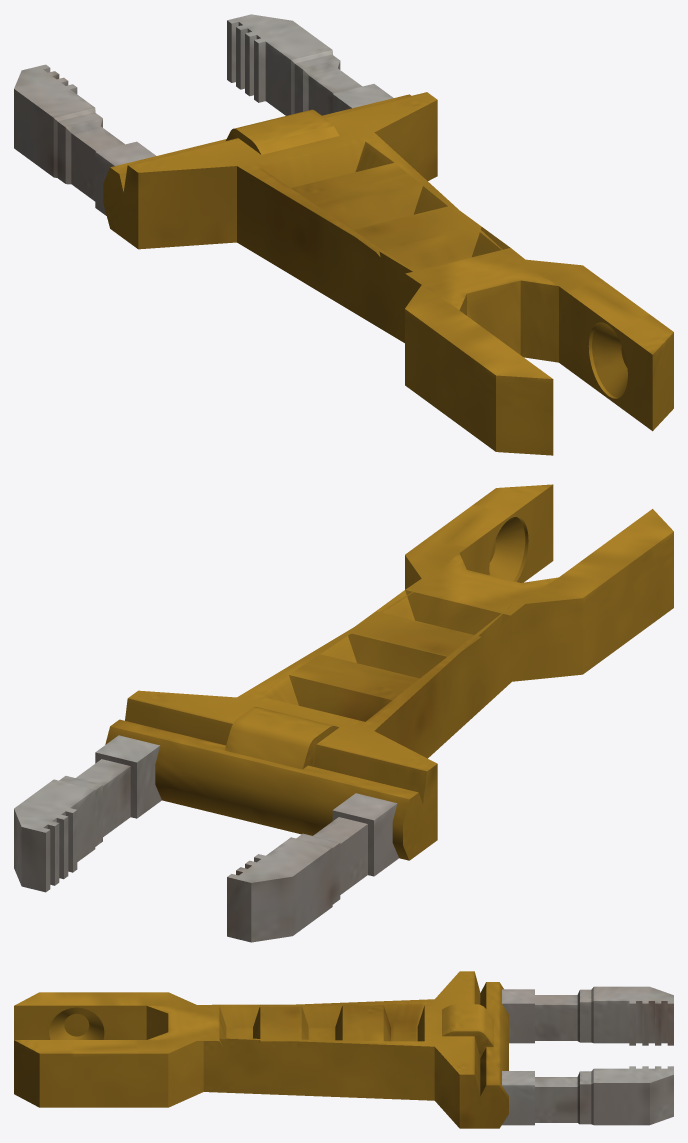
File: inserter-arm-basic-hand-closed.glb
The picture shows the model from 3 angles, top to bottom: view 1: azimuth 30°, elevation 25°; view 2: azimuth 150°, elevation 25°; view 3: azimuth 270°, elevation 25°; orthographic projection. The views are drawn at different scales.
Visible parts, largest first — view 1: body; view 2: body; view 3: body.
Part boxes in pixels (box(x1,y1,x2,y2)): body: box(14, 14, 673, 455); body: box(14, 484, 673, 942); body: box(14, 971, 673, 1128).
Bounding box in the file's own units: 0.3696 × 0.099 × 0.9974.
2 materials, 2 textured.
